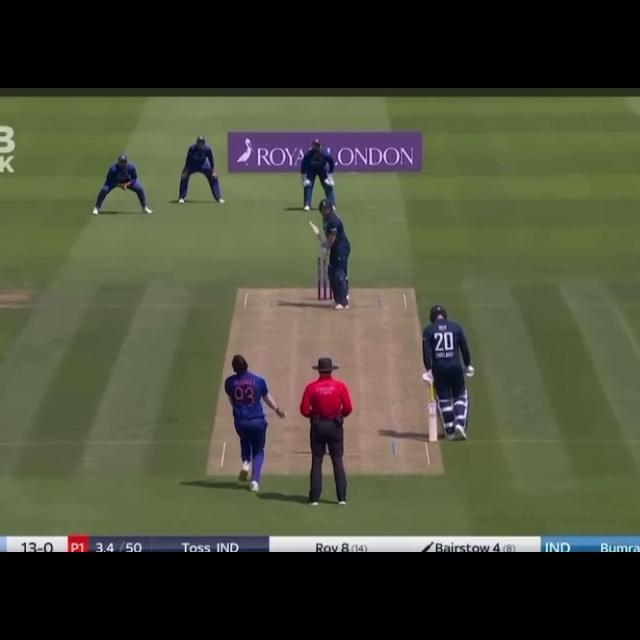umpire: (297, 357, 362, 508)
